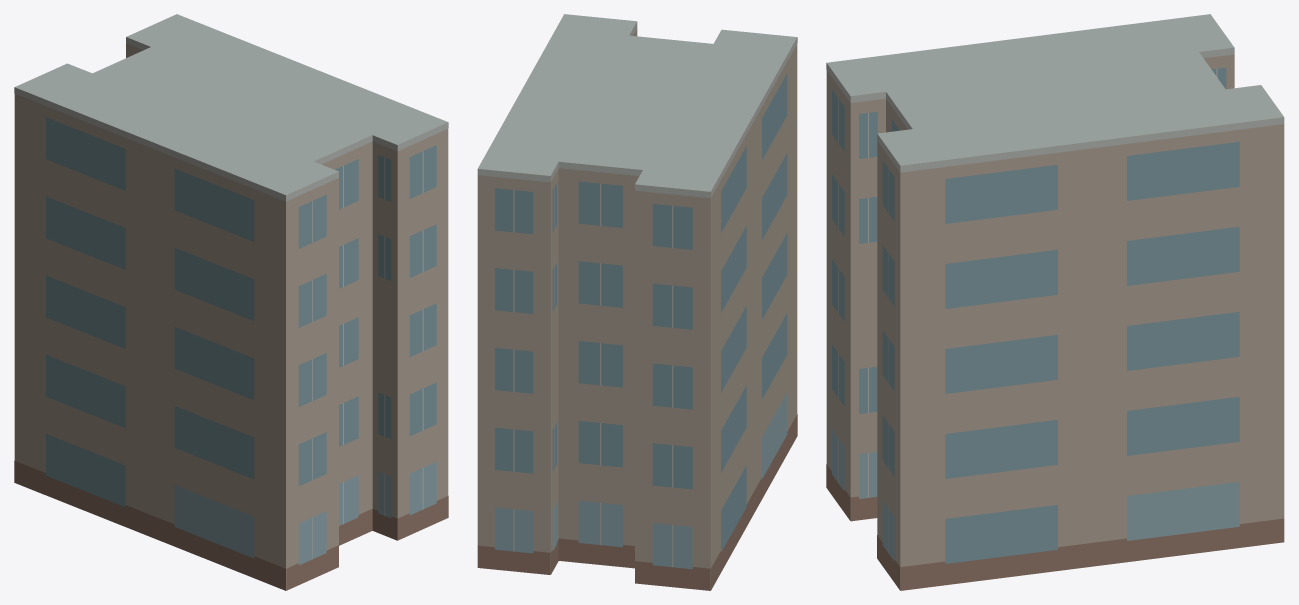
Rendered from survey-upis-32624368.glb.
3 views of the same model, side by side, from view 1: azimuth 30°, elevation 25°; view 2: azimuth 150°, elevation 25°; view 3: azimuth 270°, elevation 25° (orthographic). The views are drawn at different scales.
Visible parts, largest first — view 1: survey-upis-32624368.tmp; view 2: survey-upis-32624368.tmp; view 3: survey-upis-32624368.tmp.
Boxes of the visible parts, <box> form: survey-upis-32624368.tmp: <box>14,14,448,590</box>; survey-upis-32624368.tmp: <box>477,14,797,590</box>; survey-upis-32624368.tmp: <box>826,14,1284,590</box>.
Bounding box in the file's own units: 11.69 × 15.25 × 14.9.
